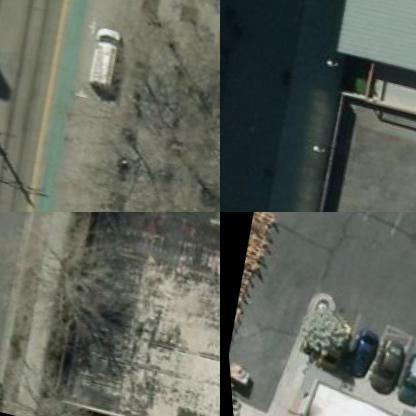car: (78, 23, 132, 92), (364, 338, 404, 397), (342, 327, 380, 385), (390, 360, 415, 409)
